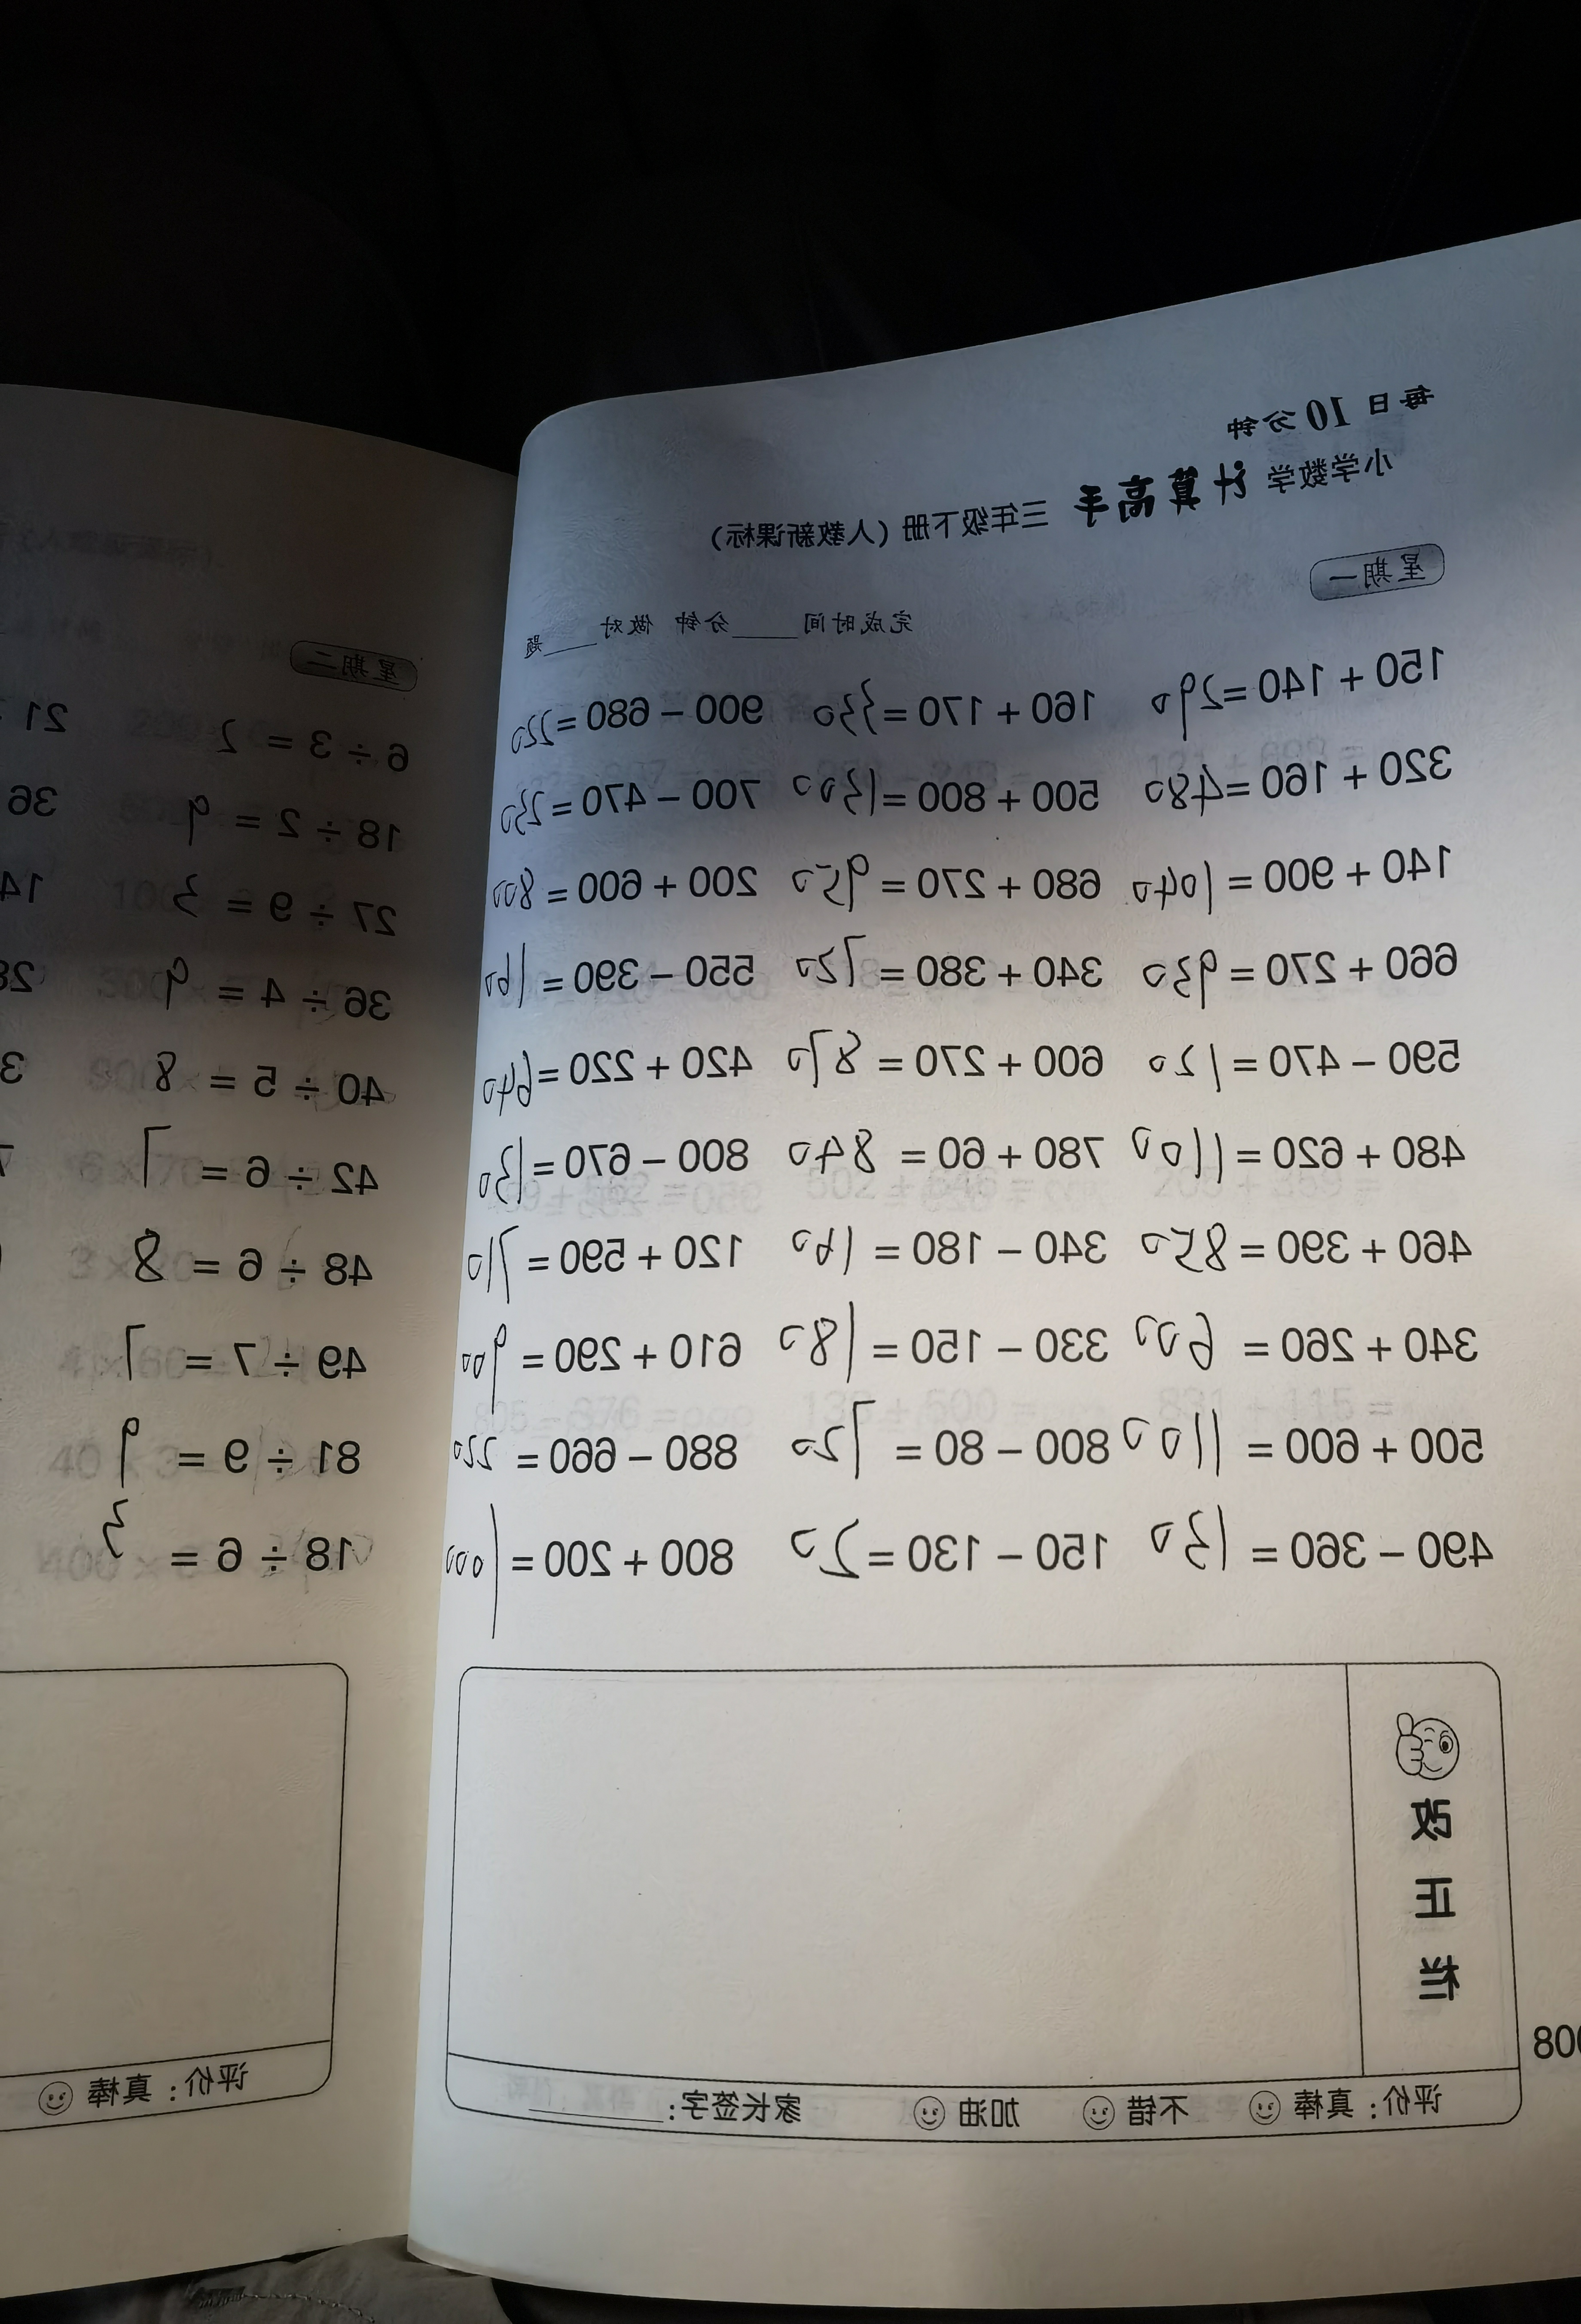equation: (431, 1509, 755, 1632), (1103, 630, 1454, 739), (787, 1391, 1112, 1500), (764, 842, 1108, 933), (769, 1514, 1105, 1606), (789, 667, 1098, 759), (487, 676, 783, 771), (1115, 1020, 1468, 1099), (1120, 1113, 1465, 1195), (778, 1022, 1112, 1105), (1135, 743, 1470, 824), (1126, 1511, 1502, 1583), (1126, 836, 1440, 923), (1135, 933, 1463, 1015), (475, 1029, 757, 1122), (1119, 1417, 1491, 1488), (769, 1316, 1112, 1392), (469, 1129, 762, 1216), (1129, 1212, 1486, 1283), (775, 1121, 1115, 1193), (790, 1211, 1113, 1283), (455, 1226, 746, 1306), (482, 771, 764, 852), (790, 933, 1108, 1004), (457, 1329, 752, 1401), (471, 942, 766, 1013), (1120, 1318, 1486, 1375), (489, 856, 762, 921), (785, 775, 1108, 829), (441, 1428, 745, 1482)
